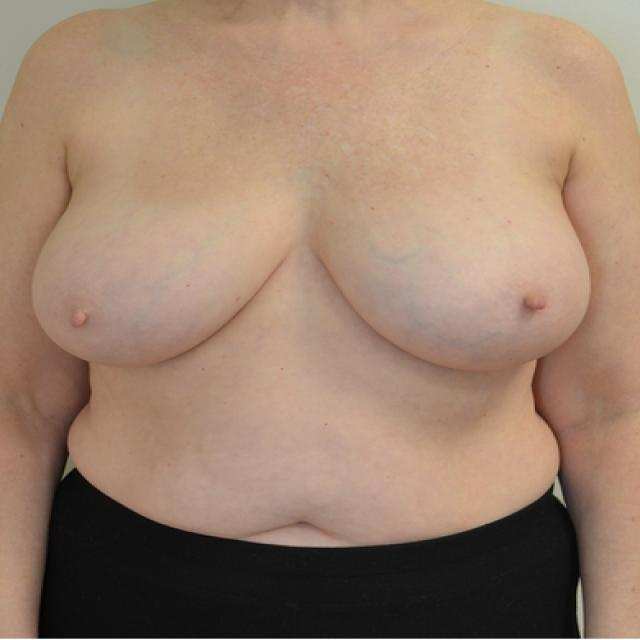Seno ileso: (304, 147, 596, 391), (27, 147, 301, 386)
